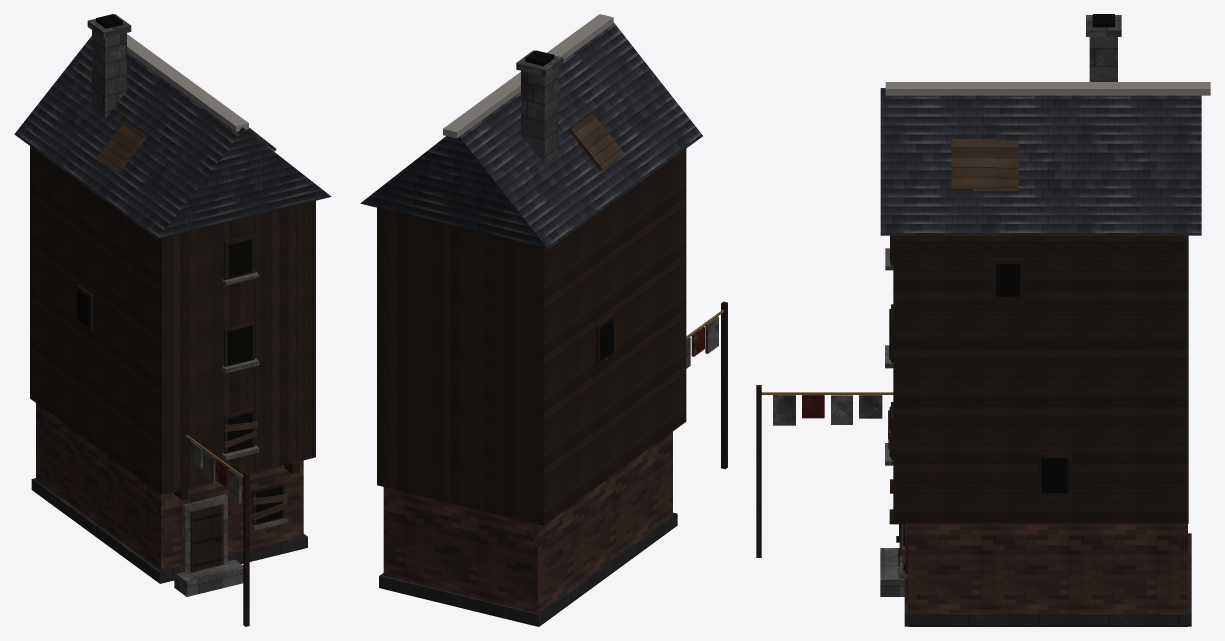
File: CasaS09.gltf
3 views of the same model, side by side, from view 1: azimuth 30°, elevation 25°; view 2: azimuth 150°, elevation 25°; view 3: azimuth 270°, elevation 25° (orthographic). The views are drawn at different scales.
Visible parts, largest first — view 1: CasaS09; view 2: CasaS09; view 3: CasaS09.
Part boxes in pixels (left/top/right/bottom): CasaS09: left=14, top=14, right=331, bottom=626; CasaS09: left=360, top=14, right=727, bottom=626; CasaS09: left=756, top=14, right=1210, bottom=626.
Size of the model in its own units: 5.65 by 15.46 by 11.39.
13 materials, 9 textured.
